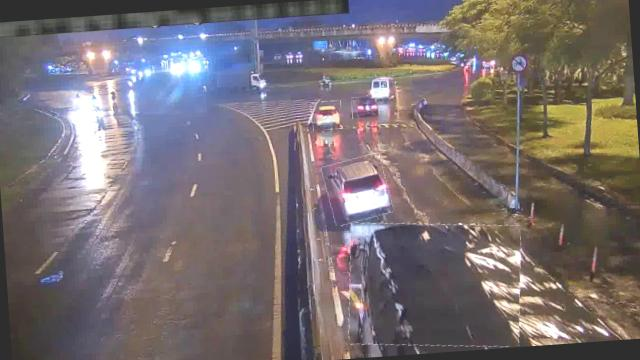Bus: (366, 74, 397, 99)
Car: (322, 154, 390, 224), (310, 100, 343, 131), (351, 94, 381, 118)
Truck: (342, 214, 526, 354)
